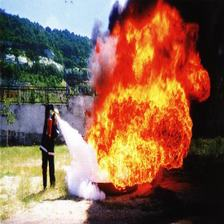fire: (87, 19, 209, 197)
